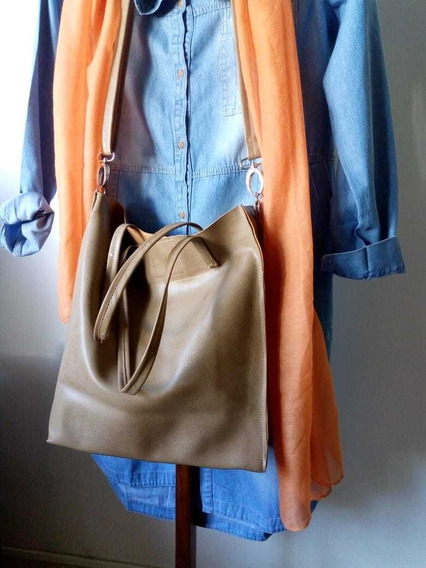cartera: (46, 4, 275, 474)
